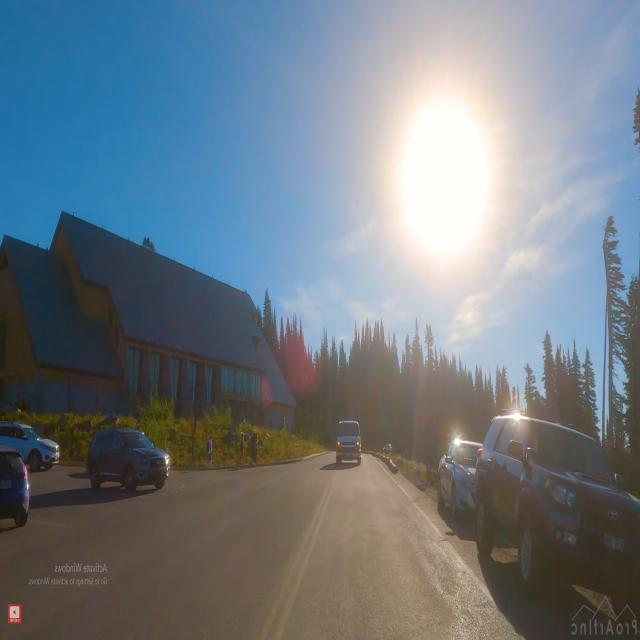sun: (376, 73, 510, 293)
